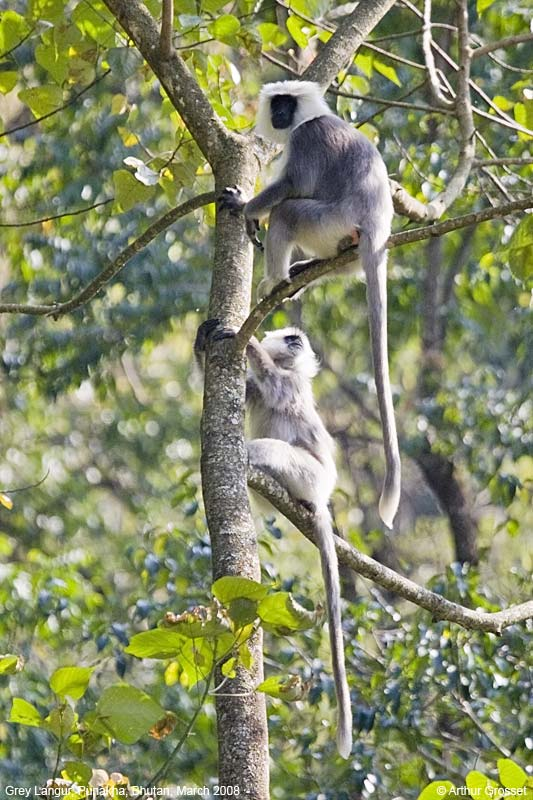monkey: (227, 73, 464, 524), (201, 319, 401, 759)
